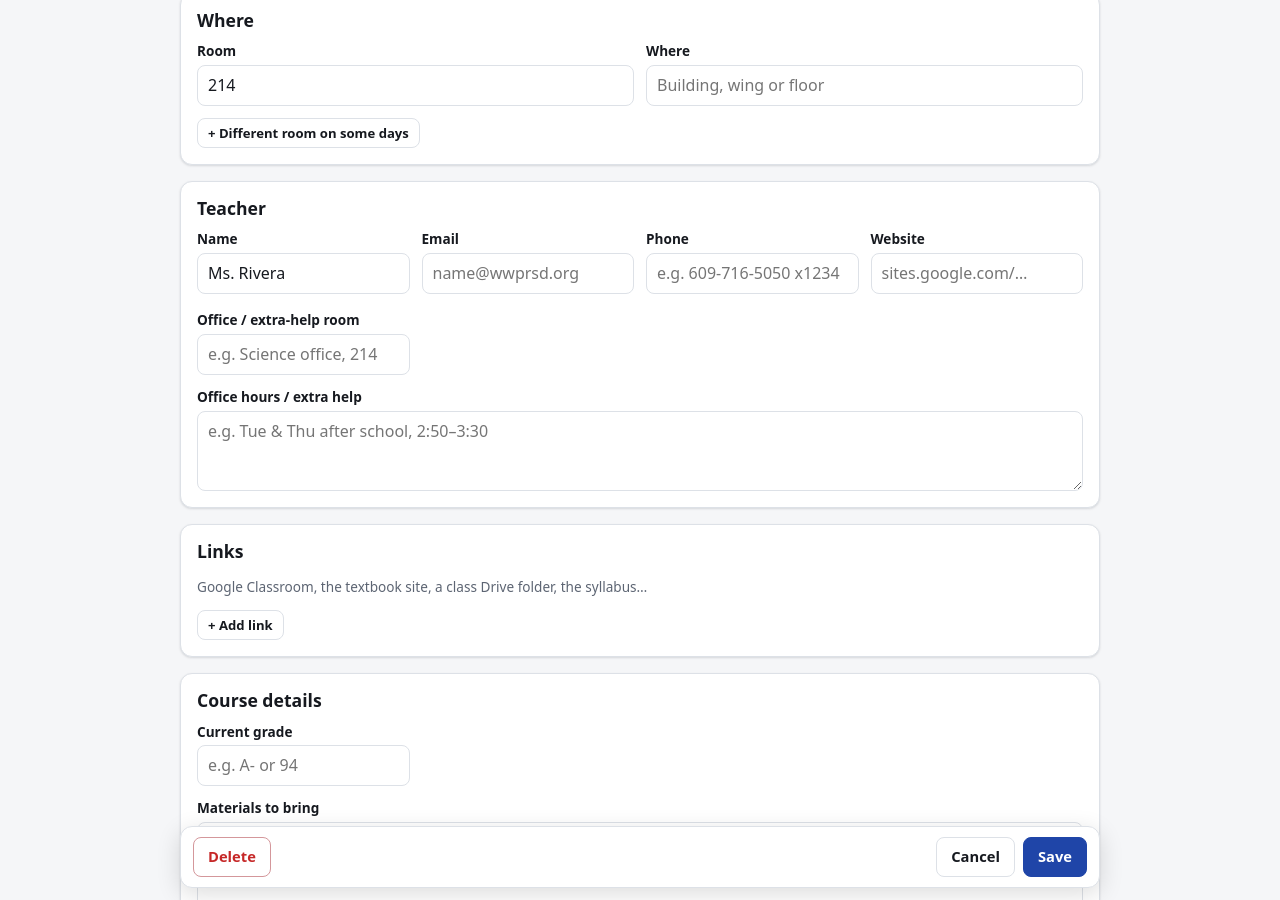
ClassEditPage: unsaved changes › still asks after a delete that failed
Later steps or results of the test are not shown.
(page scrolled)
In the text box labelled "Office hours / extra help": coordinates (640, 451) [197, 411, 1083, 491], type "Tue after school"
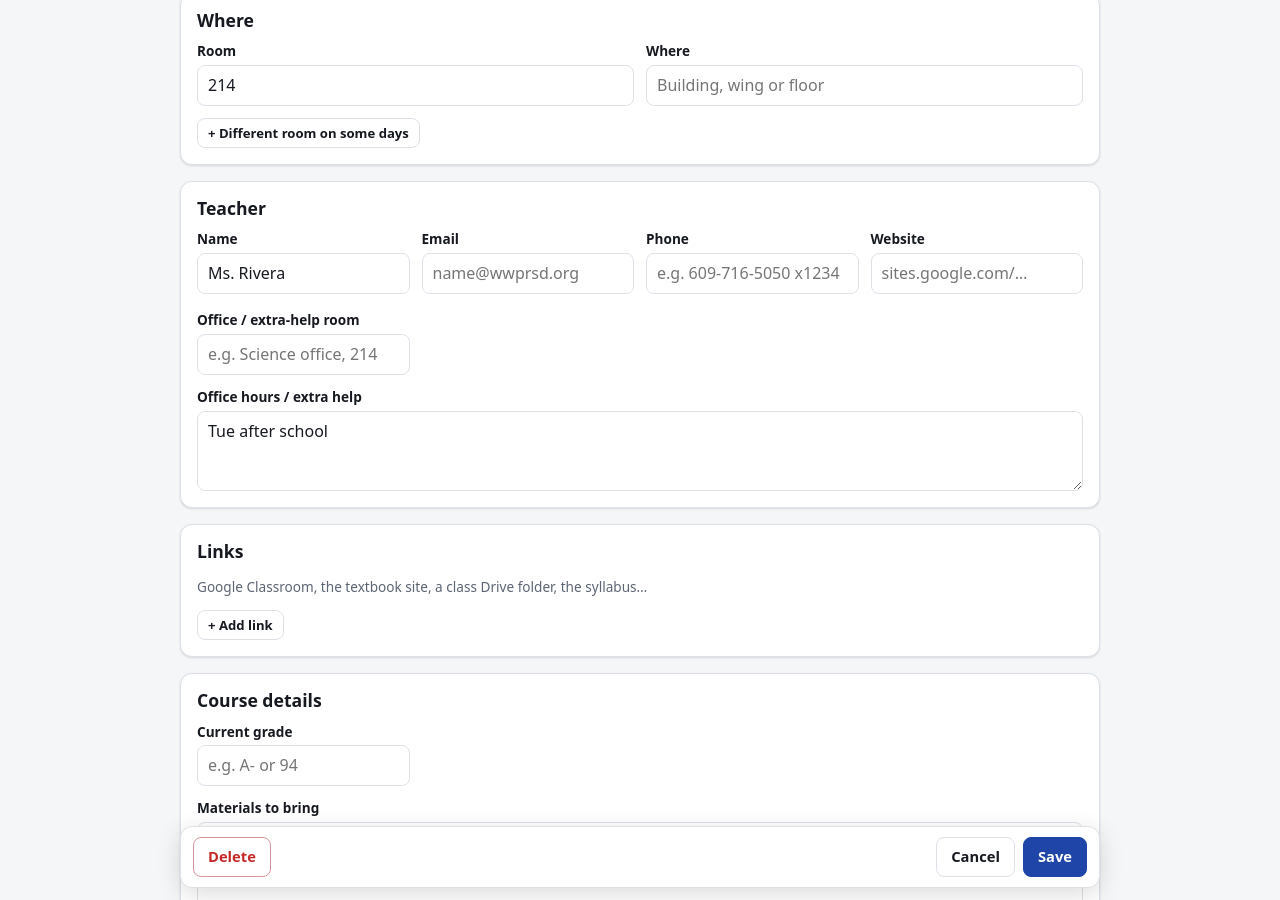
Click the button "Delete": coordinates (232, 857) [193, 838, 271, 877]
(page scrolled)
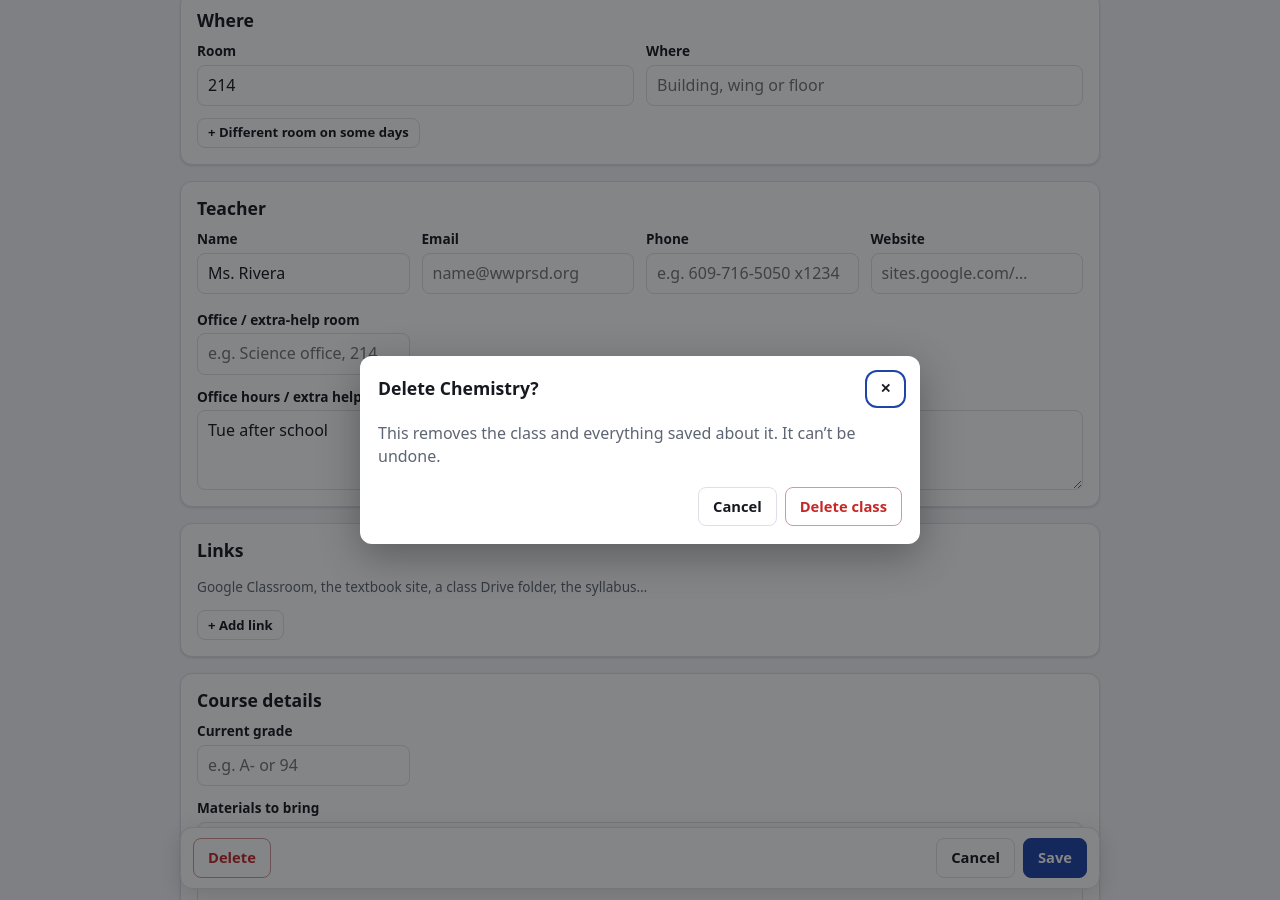
Click the button "Delete class": coordinates (843, 507) [785, 487, 902, 526]
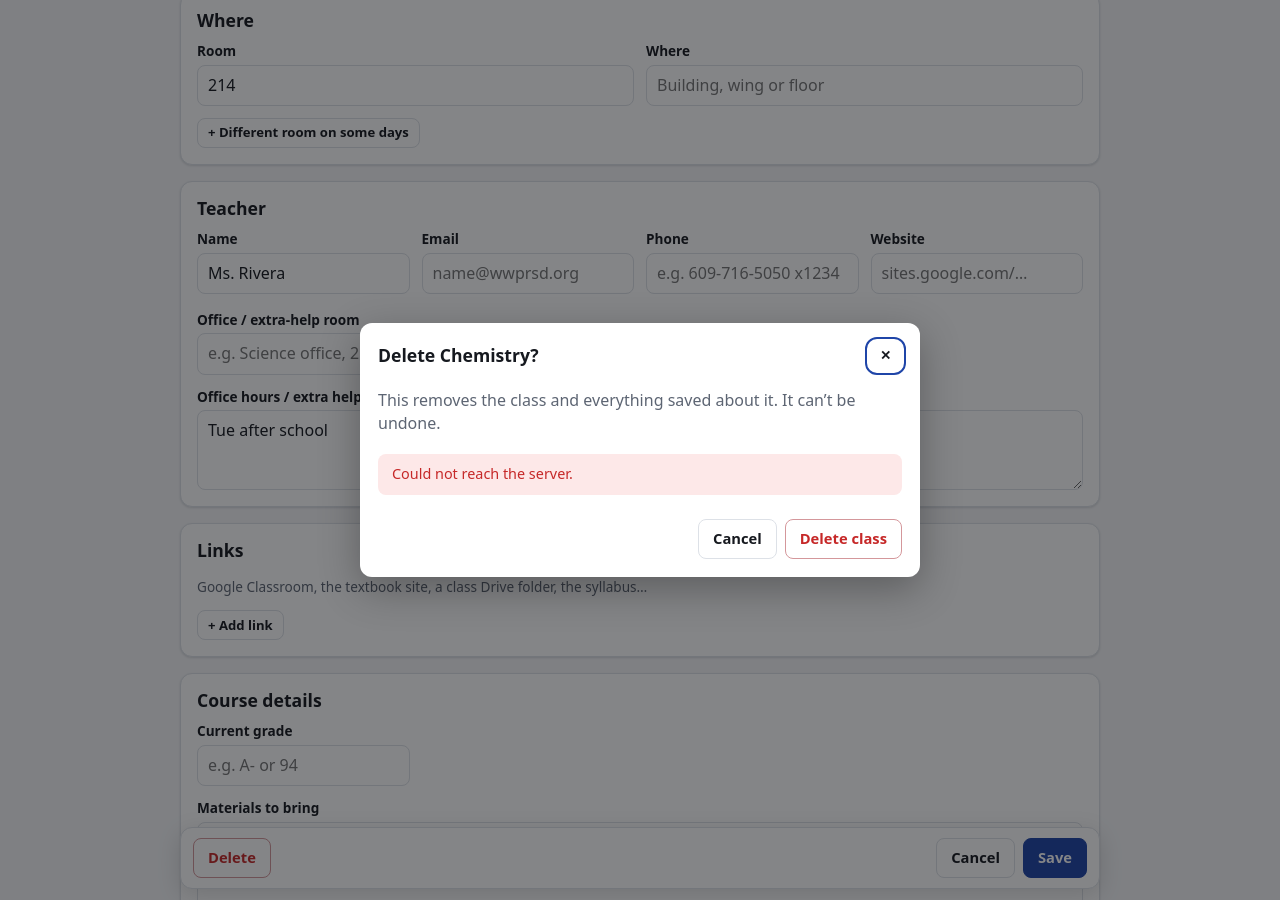
Check: the message reads "Could not reach the server.", box [392, 464, 573, 484]
Click the button "Cancel": coordinates (737, 539) [698, 519, 777, 559]
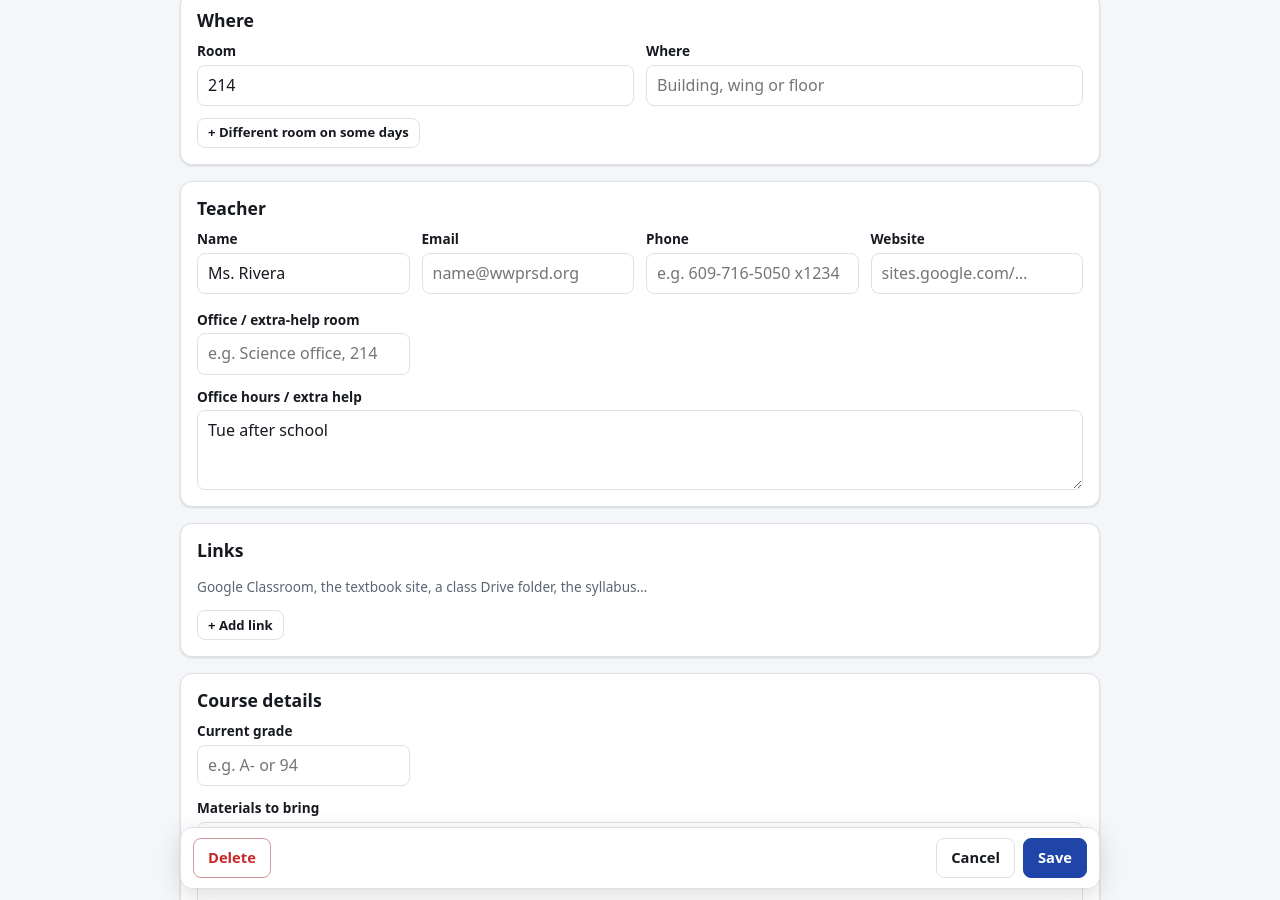
Check: the heading "Delete Chemistry?" is gone
